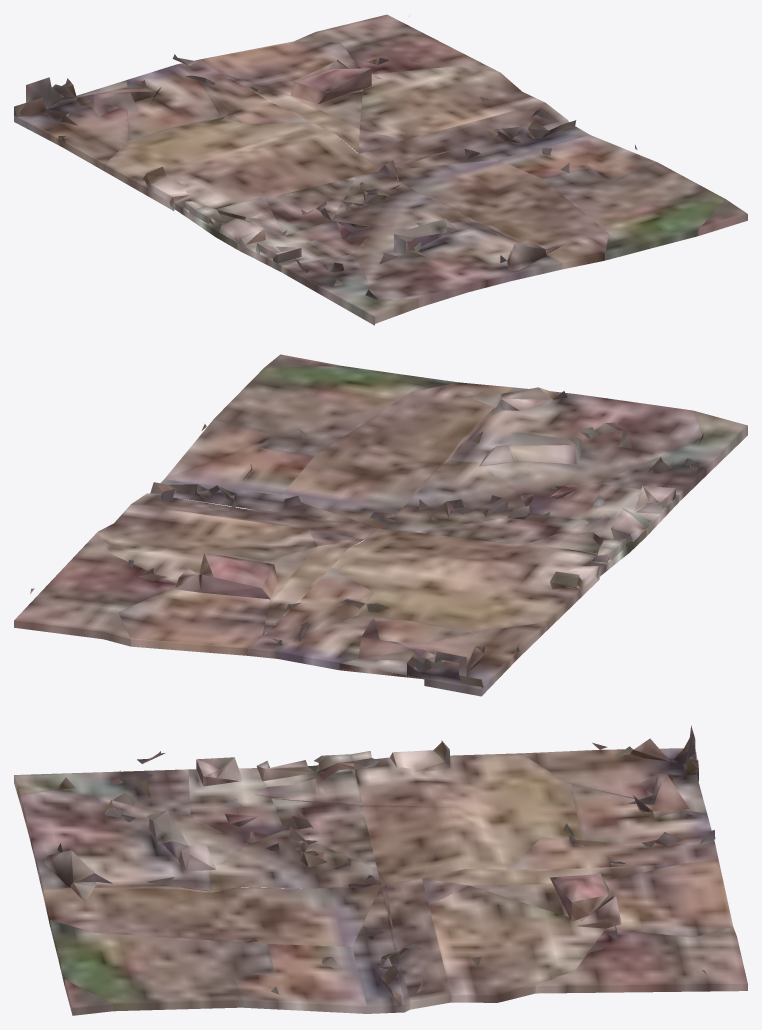
The picture shows the model from 3 angles, top to bottom: view 1: azimuth 30°, elevation 25°; view 2: azimuth 150°, elevation 25°; view 3: azimuth 270°, elevation 25°; orthographic projection. The views are drawn at different scales.
Visible parts, largest first — view 1: Mesh_0; view 2: Mesh_0; view 3: Mesh_0.
Part boxes in pixels (x1,y1,x2,y2): Mesh_0: (14, 14, 747, 325); Mesh_0: (14, 354, 747, 696); Mesh_0: (14, 725, 747, 1015).
Bounding box in the file's own units: 532 × 59.51 × 659.
1 material, 1 textured.
